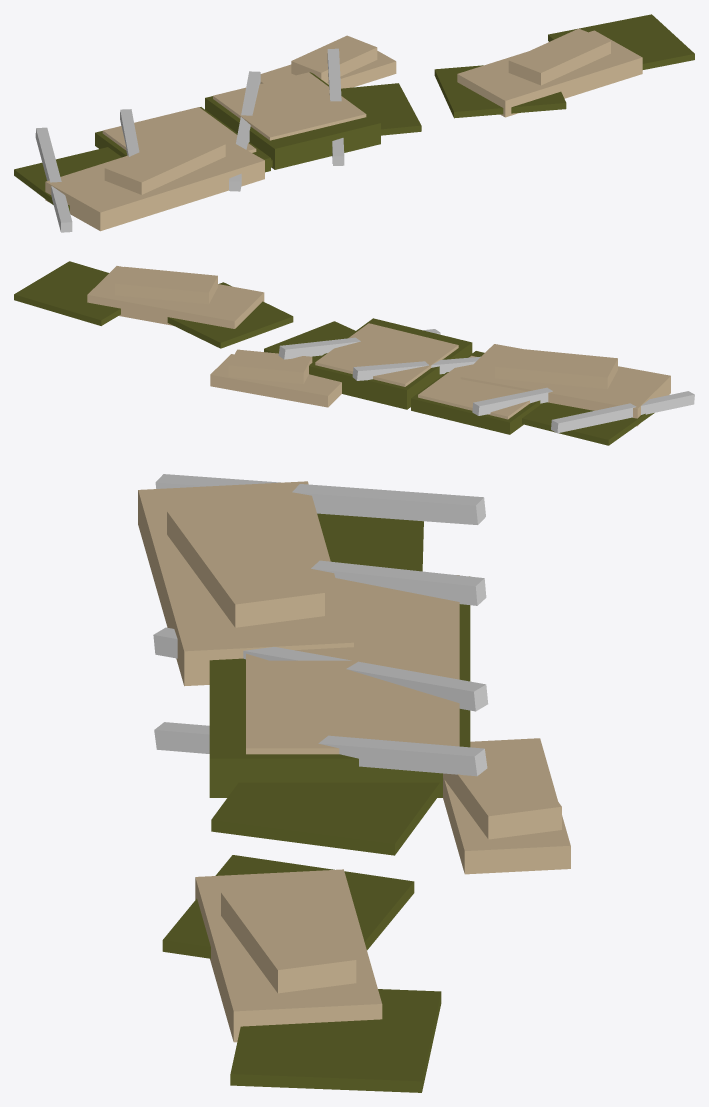
Rendered from SM_HescoCorto4_v1_Geotextil_e3_Brecha_LOD1.fbx.
3 views of the same model, one above another, from view 1: azimuth 30°, elevation 25°; view 2: azimuth 150°, elevation 25°; view 3: azimuth 270°, elevation 25° (orthographic). The views are drawn at different scales.
Visible parts, largest first — view 1: SM_hesco_piezas_v107_LOD1; view 2: SM_hesco_piezas_v107_LOD1; view 3: SM_hesco_piezas_v107_LOD1.
Part boxes in pixels (x1,y1,x2,y2): SM_hesco_piezas_v107_LOD1: (14, 14, 694, 232); SM_hesco_piezas_v107_LOD1: (14, 261, 694, 445); SM_hesco_piezas_v107_LOD1: (138, 474, 570, 1092).
Bounding box in the file's own units: 6.66 × 0.351 × 2.02.
